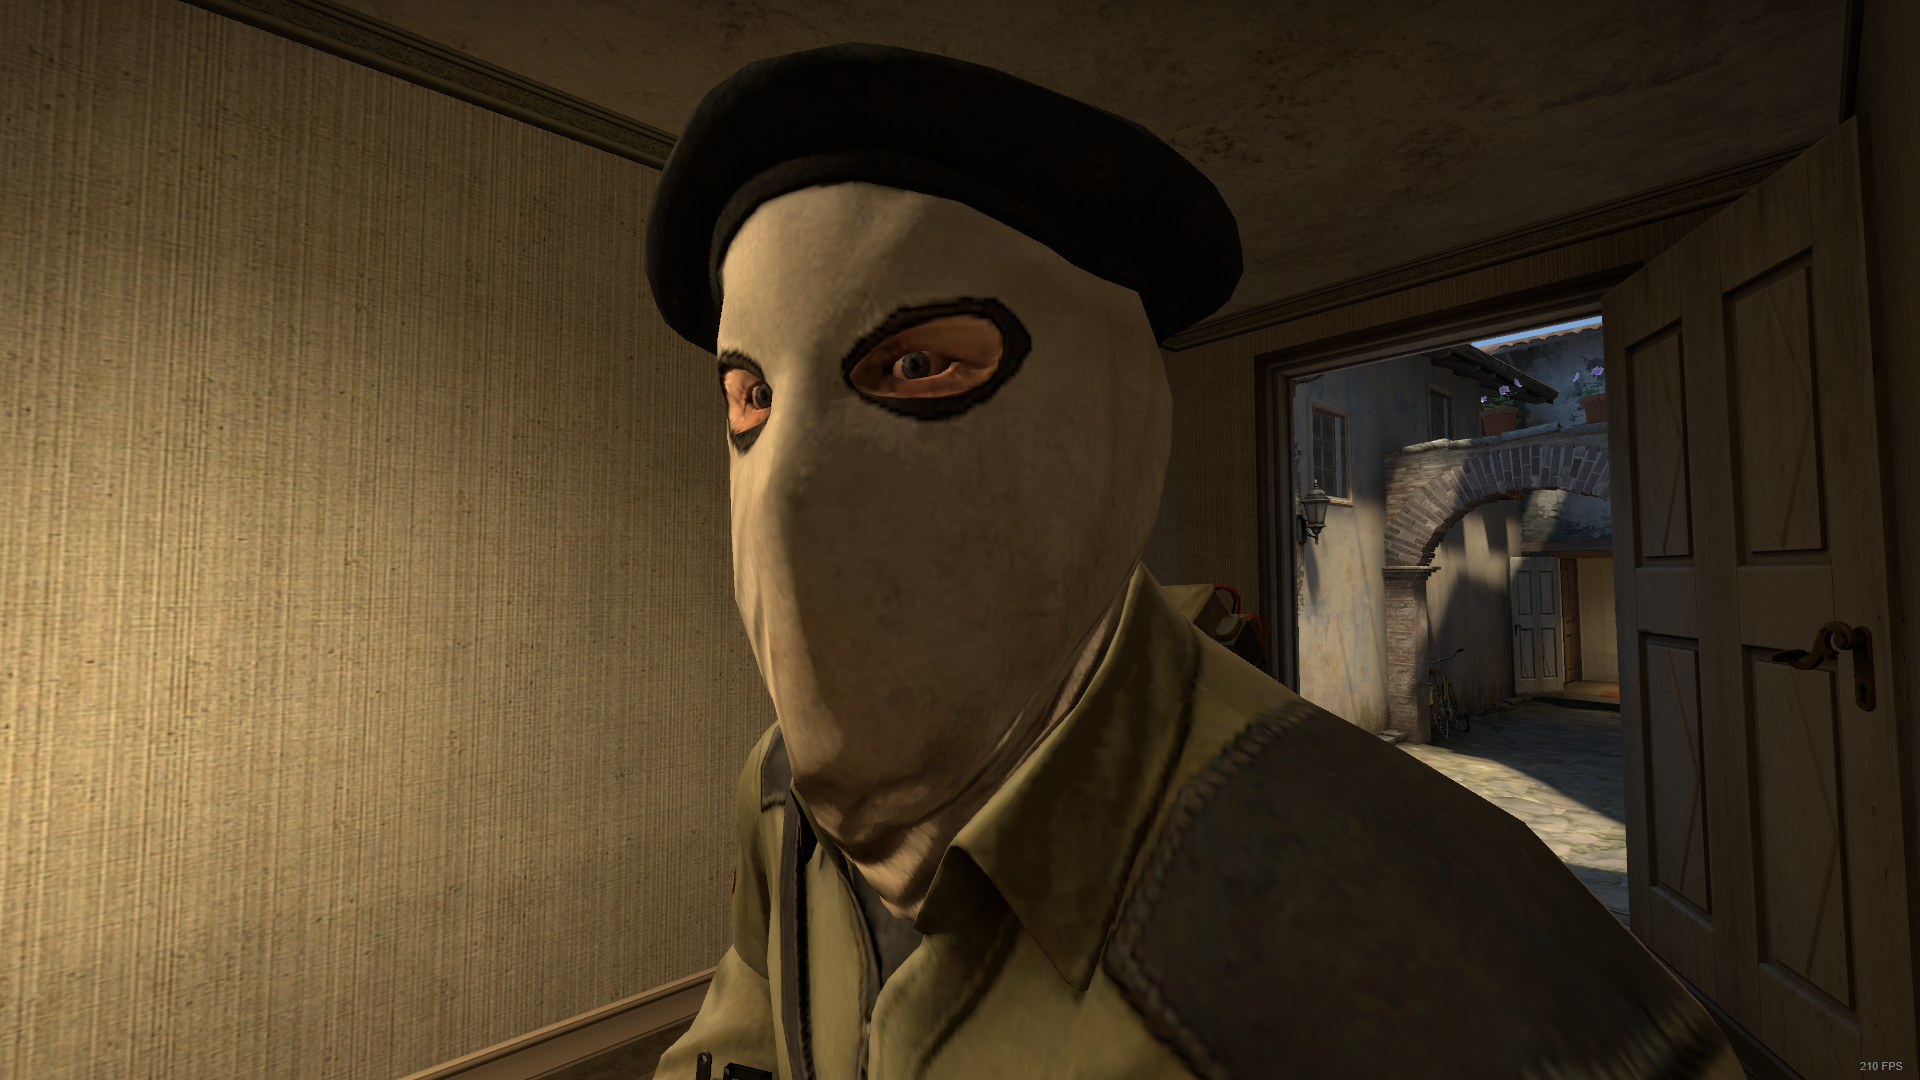t: (629, 61, 1745, 1080)
